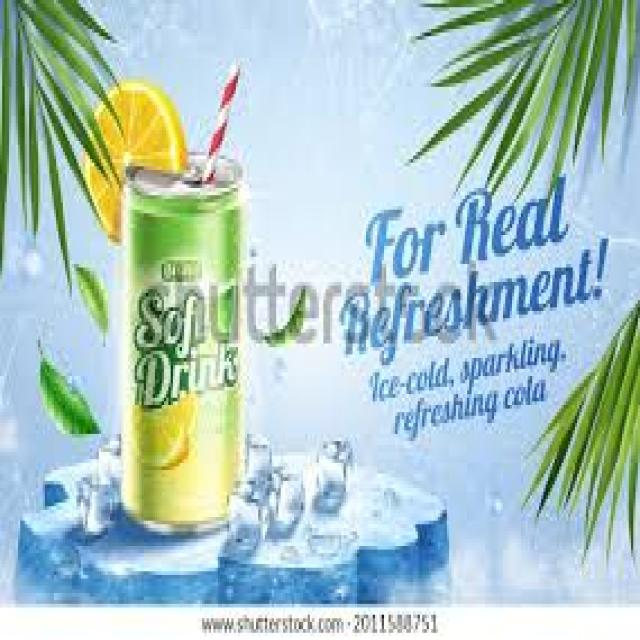Cans: (110, 144, 249, 538)
